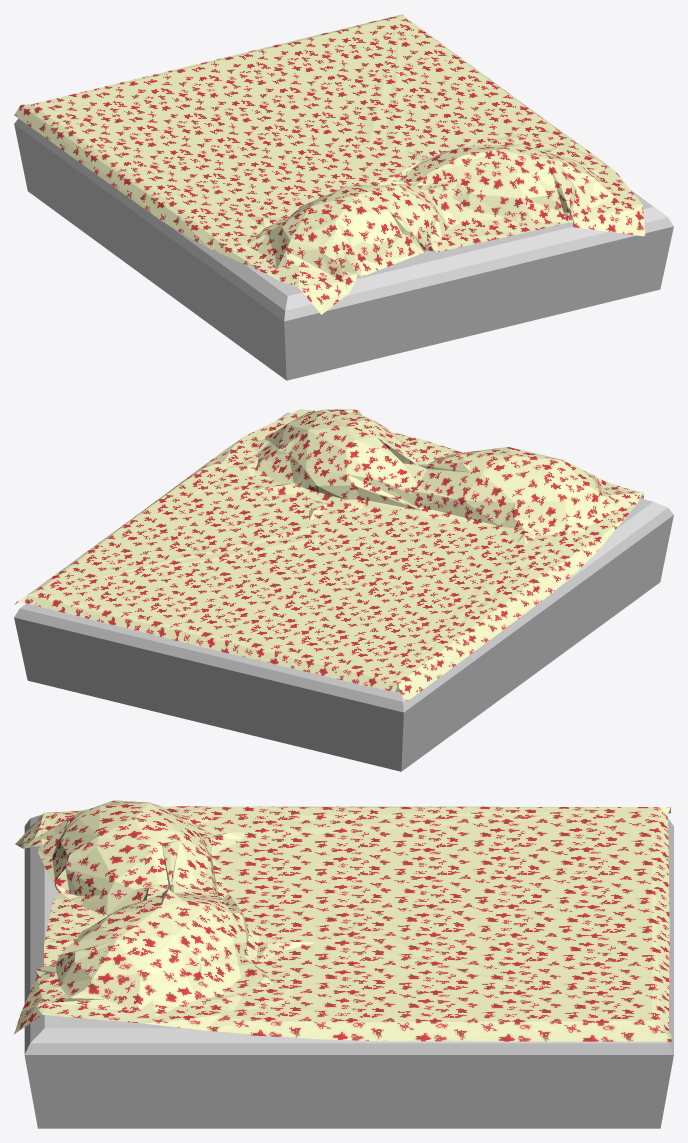
The model's file is Bed.fbx.
The picture shows the model from 3 angles, top to bottom: view 1: azimuth 30°, elevation 25°; view 2: azimuth 150°, elevation 25°; view 3: azimuth 270°, elevation 25°; orthographic projection. The views are drawn at different scales.
Visible parts, largest first — view 1: Плоскость.001, Bed; view 2: Плоскость.001, Bed; view 3: Плоскость.001, Bed.
Boxes of the visible parts, bbox=[...] form: Плоскость.001: bbox=[14, 14, 645, 314]; Bed: bbox=[14, 118, 673, 380]; Плоскость.001: bbox=[14, 409, 643, 701]; Bed: bbox=[14, 412, 673, 771]; Плоскость.001: bbox=[14, 800, 671, 1041]; Bed: bbox=[24, 814, 673, 1128].
Bounding box in the file's own units: 251 × 79.48 × 305.
